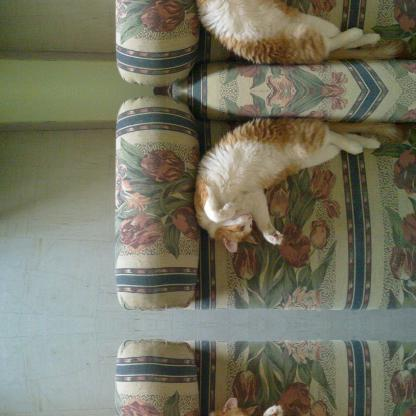Cat: (193, 114, 409, 252), (193, 0, 410, 69)
